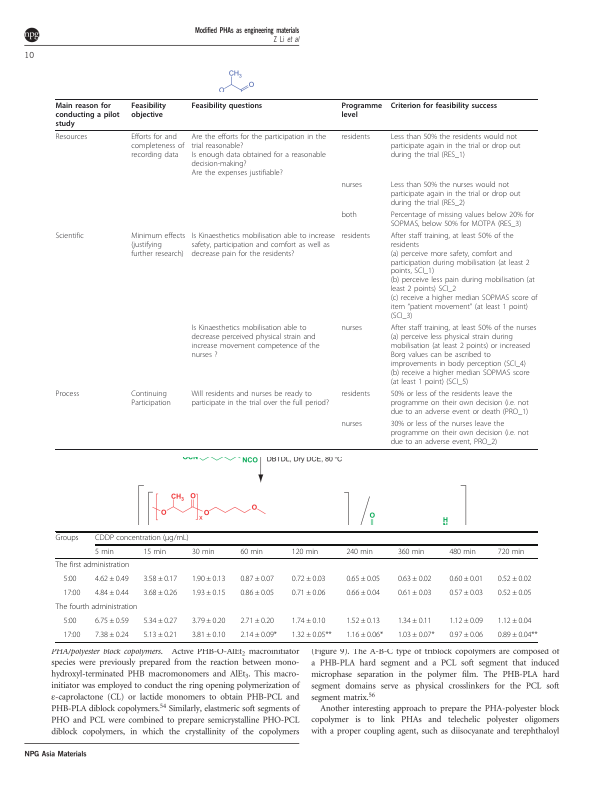borderless: (54, 97, 538, 449), (54, 530, 538, 642)
cell: (390, 231, 538, 321), (390, 323, 537, 387), (190, 132, 327, 177), (190, 323, 320, 360), (190, 231, 336, 258), (390, 389, 530, 417), (390, 419, 530, 447), (390, 132, 521, 160), (390, 180, 521, 207), (190, 389, 330, 408), (390, 210, 535, 228), (55, 101, 120, 128), (130, 132, 185, 160), (130, 231, 186, 258), (390, 101, 498, 110), (94, 534, 190, 543), (55, 602, 138, 612), (130, 389, 172, 408), (340, 101, 383, 119), (55, 560, 130, 570), (130, 101, 167, 119), (190, 101, 263, 110), (291, 630, 332, 640), (497, 630, 538, 640), (239, 630, 278, 640), (345, 630, 384, 640), (397, 630, 435, 640), (94, 574, 130, 584), (142, 574, 178, 584), (239, 574, 275, 584), (345, 574, 381, 584), (448, 574, 484, 584), (94, 588, 130, 598), (142, 588, 178, 598), (239, 588, 275, 598), (345, 588, 381, 598), (448, 588, 484, 598), (94, 616, 130, 626), (142, 616, 178, 626), (239, 616, 275, 626), (345, 616, 381, 626), (448, 616, 484, 626), (94, 630, 130, 640), (142, 630, 178, 640), (448, 630, 484, 640), (191, 574, 226, 584), (291, 574, 326, 584), (397, 574, 432, 584), (497, 574, 532, 584), (191, 588, 226, 598), (291, 588, 326, 598), (397, 588, 432, 598), (497, 588, 532, 598), (191, 616, 226, 626), (291, 616, 326, 626), (397, 616, 432, 626), (497, 616, 532, 626), (191, 630, 226, 640), (55, 132, 88, 142), (340, 132, 371, 142), (340, 389, 371, 399), (54, 231, 85, 240), (340, 231, 371, 240), (345, 547, 374, 556), (448, 547, 477, 556), (54, 389, 80, 399), (291, 547, 319, 556), (397, 547, 425, 556), (497, 547, 525, 556), (340, 323, 363, 333), (340, 419, 363, 429), (142, 547, 167, 556), (239, 547, 264, 556), (55, 534, 79, 543), (191, 547, 215, 556), (340, 180, 363, 189), (62, 588, 81, 598), (62, 630, 81, 640), (94, 547, 115, 556), (340, 210, 358, 219), (62, 574, 77, 584), (62, 616, 77, 626)
